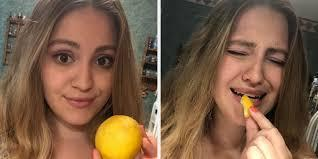lemon: (94, 115, 142, 159)
